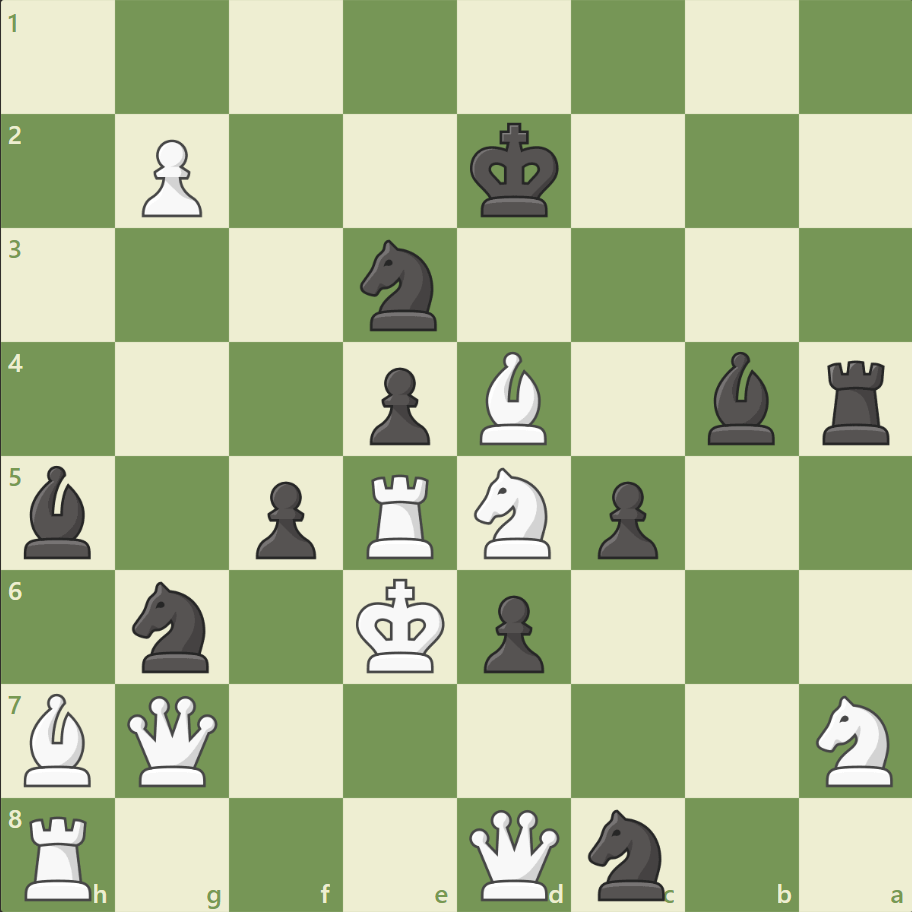B: (17, 687, 101, 790), (471, 347, 555, 449)
K: (351, 571, 451, 679)
N: (806, 688, 903, 791), (465, 461, 562, 564)
P: (133, 132, 208, 223)
Q: (464, 804, 563, 903), (124, 690, 223, 789)
R: (19, 806, 102, 904), (360, 466, 442, 563)
b: (17, 460, 101, 563), (698, 347, 782, 449)
k: (465, 117, 565, 225)
n: (351, 234, 449, 337), (124, 575, 222, 677), (579, 802, 676, 904)
p: (474, 586, 549, 677), (247, 473, 322, 564), (588, 473, 662, 564), (361, 359, 435, 450)
r: (814, 352, 897, 449)
